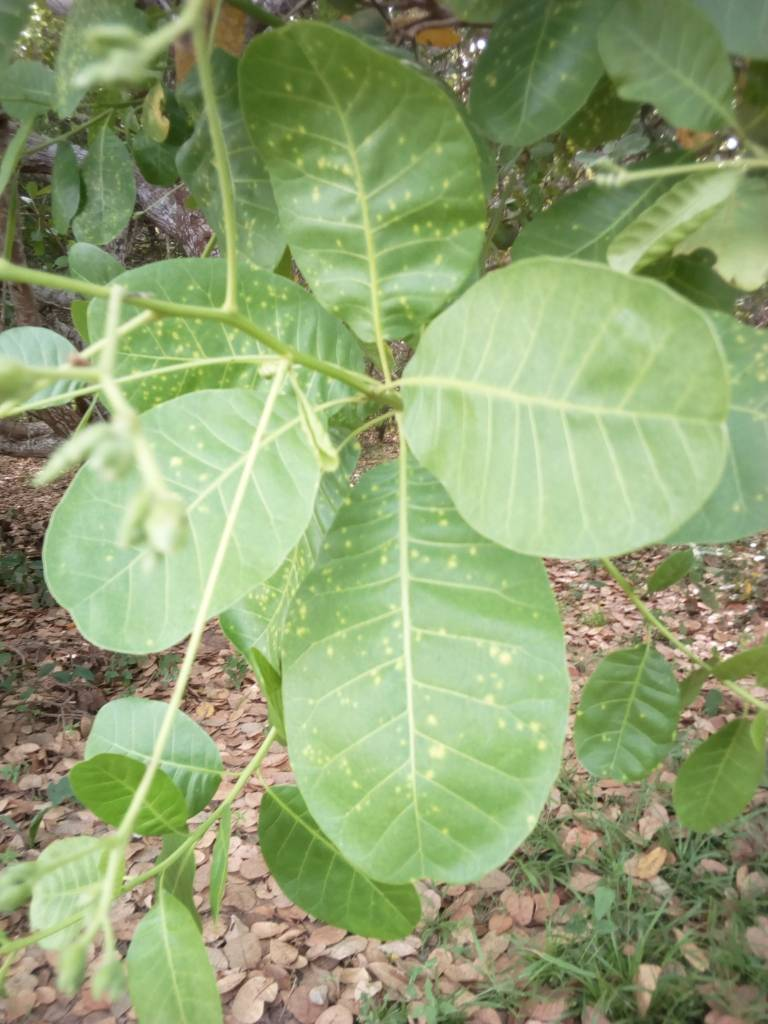Carence minérale: (272, 446, 580, 899), (390, 258, 748, 561), (225, 13, 505, 355), (30, 385, 341, 658), (74, 249, 363, 422)
